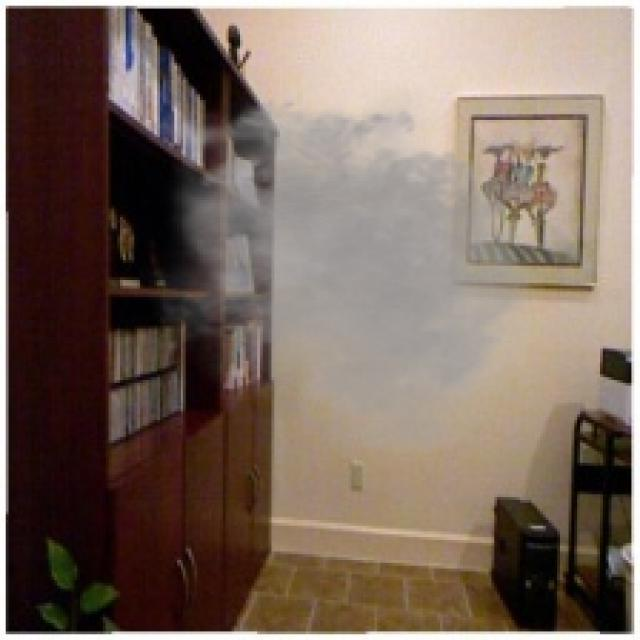Smoke: (137, 80, 557, 466)
